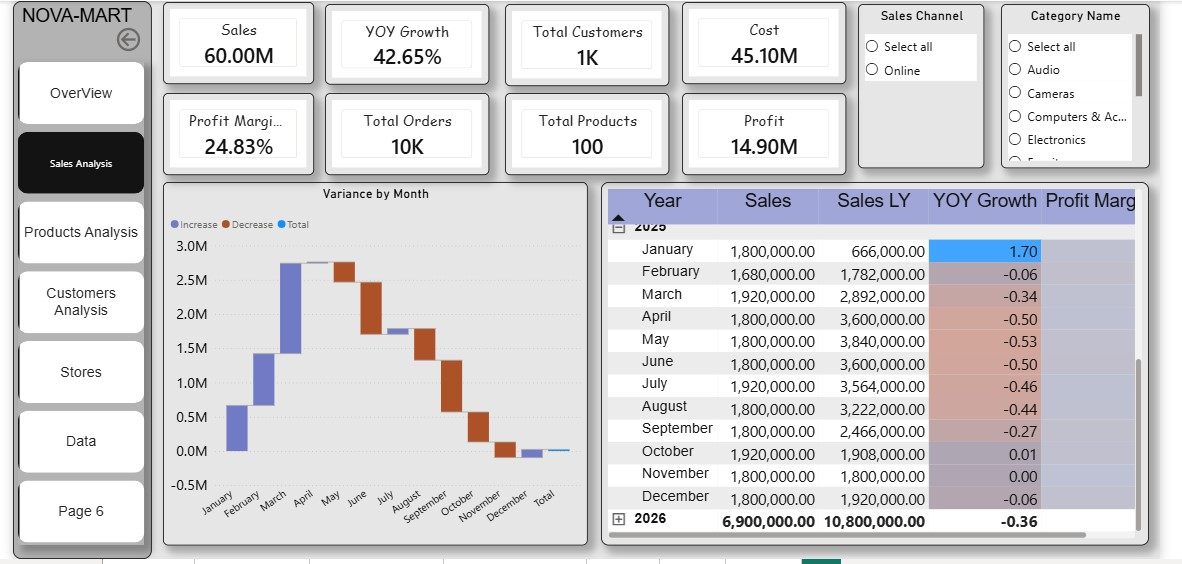

Layout of this report page (visuals, bound fields, positions):
{"tool":"powerbi","page":{"name":"Sales Analysis","canvas":[1480,720],"ordinal":1},"visuals":[{"type":"pivotTable","fields":{"Rows":["Dim Date.Year","Dim Date.MonthName"],"Values":["_Measures.Sales","_Measures.Sales LY","_Measures.YOY Growth","_Measures.Profit Margin %"]},"box":[759.3,233.5,707.2,468.7],"z":0},{"type":"shape","box":[0,0,179,720],"z":1000},{"type":"pageNavigator","box":[6.7,79,163,623.3],"z":2000},{"type":"textbox","box":[6.7,0,186.5,70.6],"z":3000},{"type":"cardVisual","fields":{"Data":["_Measures.Sales"]},"box":[193.2,1.7,194.9,105.8],"z":4000},{"type":"cardVisual","fields":{"Data":["_Measures.Profit"]},"box":[863.5,119.3,211.7,105.8],"z":5000},{"type":"waterfallChart","title":"Variance by Month","fields":{"Category":["Dim Date.MonthName"],"Y":["_Measures.Variance Month"]},"box":[193.2,233.5,547.7,468.7],"z":6000},{"type":"cardVisual","fields":{"Data":["_Measures.YOY Growth"]},"box":[403.2,3.4,211.7,104.2],"z":7000},{"type":"cardVisual","fields":{"Data":["_Measures.Profit Margin %"]},"box":[193.2,119.3,194.9,105.8],"z":8000},{"type":"listSlicer","title":"Category Name","fields":{"Values":["Dim Product.CategoryName"]},"box":[1275.1,3.4,191.5,211.7],"z":9000},{"type":"listSlicer","title":"Sales Channel","fields":{"Values":["Fact Sales.SalesChannel"]},"box":[1090.3,3.4,163,211.7],"z":10000},{"type":"cardVisual","fields":{"Data":["_Measures.Total Orders"]},"box":[403.2,119.3,211.7,105.8],"z":11000},{"type":"cardVisual","fields":{"Data":["_Measures.Total Customers"]},"box":[635,3.4,211.7,105.8],"z":12000},{"type":"cardVisual","fields":{"Data":["_Measures.Cost"]},"box":[863.5,1.7,211.7,105.8],"z":13000},{"type":"cardVisual","fields":{"Data":["_Measures.Total Products"]},"box":[635,119.3,211.7,105.8],"z":14000},{"type":"actionButton","box":[129.4,30.2,100,40],"z":14001}]}

Visuals, with their boxes on the page's 1480x720 design canvas (x1, y1, x2, y2). These are canvas units, not pixel positions in the 1182x564 screenshot, which may show the page scaled, cropped or inside an application window:
pivotTable - Dim Date.Year x Dim Date.MonthName: bbox=(759, 234, 1466, 702)
shape: bbox=(0, 0, 179, 720)
pageNavigator: bbox=(7, 79, 170, 702)
textbox: bbox=(7, 0, 193, 71)
cardVisual - _Measures.Sales: bbox=(193, 2, 388, 108)
cardVisual - _Measures.Profit: bbox=(864, 119, 1075, 225)
"Variance by Month" waterfallChart: bbox=(193, 234, 741, 702)
cardVisual - _Measures.YOY Growth: bbox=(403, 3, 615, 108)
cardVisual - _Measures.Profit Margin %: bbox=(193, 119, 388, 225)
"Category Name" listSlicer: bbox=(1275, 3, 1467, 215)
"Sales Channel" listSlicer: bbox=(1090, 3, 1253, 215)
cardVisual - _Measures.Total Orders: bbox=(403, 119, 615, 225)
cardVisual - _Measures.Total Customers: bbox=(635, 3, 847, 109)
cardVisual - _Measures.Cost: bbox=(864, 2, 1075, 108)
cardVisual - _Measures.Total Products: bbox=(635, 119, 847, 225)
actionButton: bbox=(129, 30, 229, 70)
